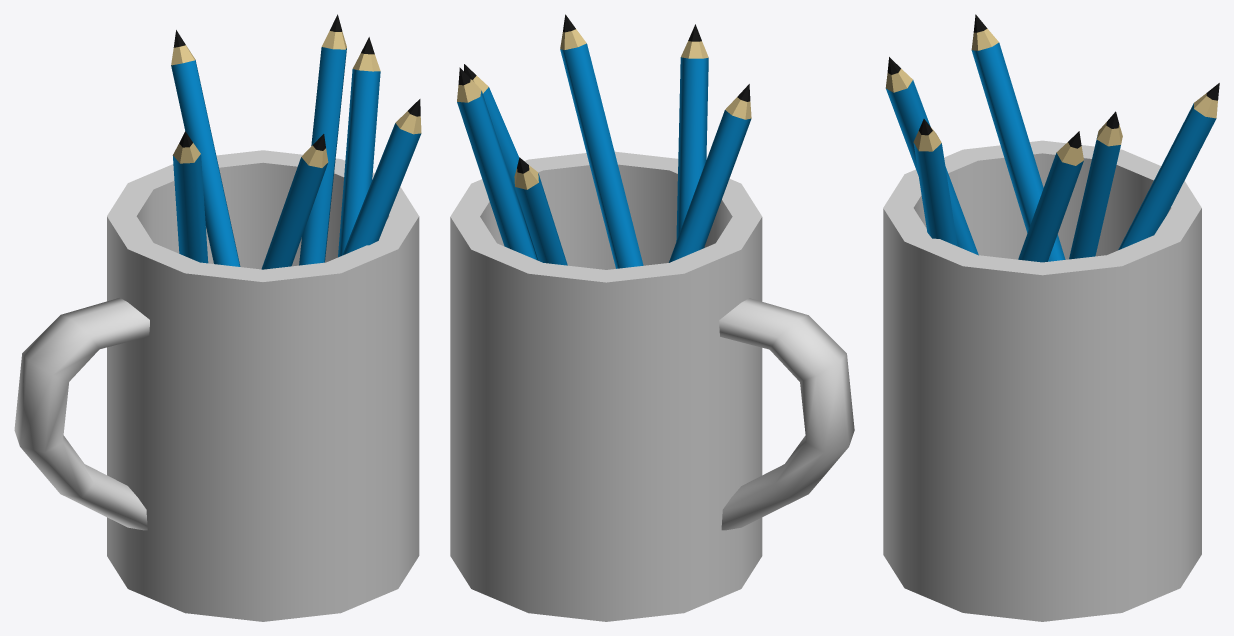
The model's file is Mug_with_Pencils.FBX.
3 renders of one model, left to right at view 1: azimuth 30°, elevation 25°; view 2: azimuth 150°, elevation 25°; view 3: azimuth 270°, elevation 25°, orthographic. The views are drawn at different scales.
Parts seen in each view (by area): view 1: Cylinder001, Cylinder002, Cylinder005, Cylinder003, Cylinder006, Cylinder004, Cylinder007; view 2: Cylinder001, Cylinder006, Cylinder005, Cylinder007, Cylinder004, Cylinder002, Cylinder003; view 3: Cylinder001, Cylinder007, Cylinder002, Cylinder003, Cylinder005, Cylinder006, Cylinder004.
Part boxes in pixels (x1,y1,x2,y2): Cylinder001: [14, 150, 419, 621]; Cylinder002: [171, 30, 240, 266]; Cylinder005: [299, 14, 346, 265]; Cylinder003: [338, 37, 380, 257]; Cylinder006: [342, 99, 421, 255]; Cylinder004: [261, 134, 328, 269]; Cylinder007: [172, 131, 208, 263]; Cylinder001: [450, 151, 854, 621]; Cylinder006: [560, 14, 643, 268]; Cylinder005: [457, 67, 537, 260]; Cylinder007: [669, 84, 751, 262]; Cylinder004: [676, 24, 708, 247]; Cylinder002: [514, 157, 567, 265]; Cylinder003: [464, 64, 538, 260]; Cylinder001: [883, 140, 1201, 621]; Cylinder007: [971, 14, 1065, 261]; Cylinder002: [1118, 83, 1219, 250]; Cylinder003: [1018, 131, 1083, 262]; Cylinder005: [1069, 111, 1122, 259]; Cylinder006: [913, 119, 957, 246]; Cylinder004: [885, 57, 978, 255].
Size of the model in its own units: 6.08 by 7.51 by 4.59.
1 material, 1 textured.
